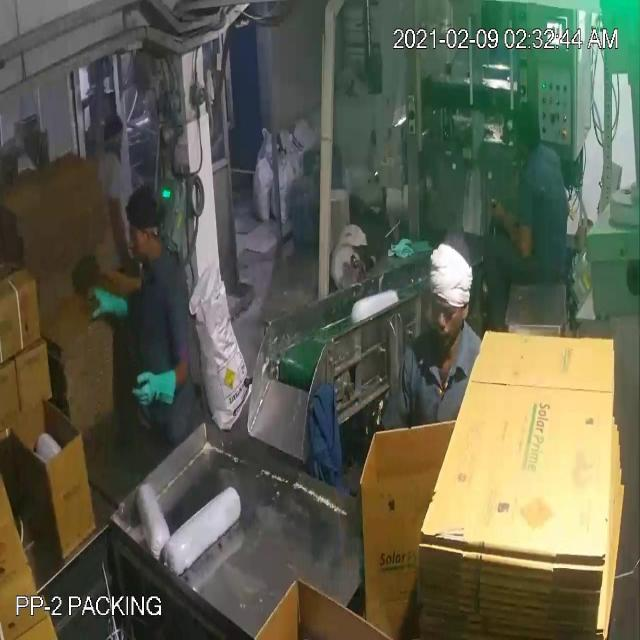Gloves: (50, 50, 514, 390)
